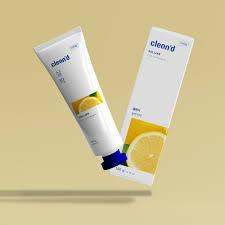toothpaste: (29, 22, 136, 169)
